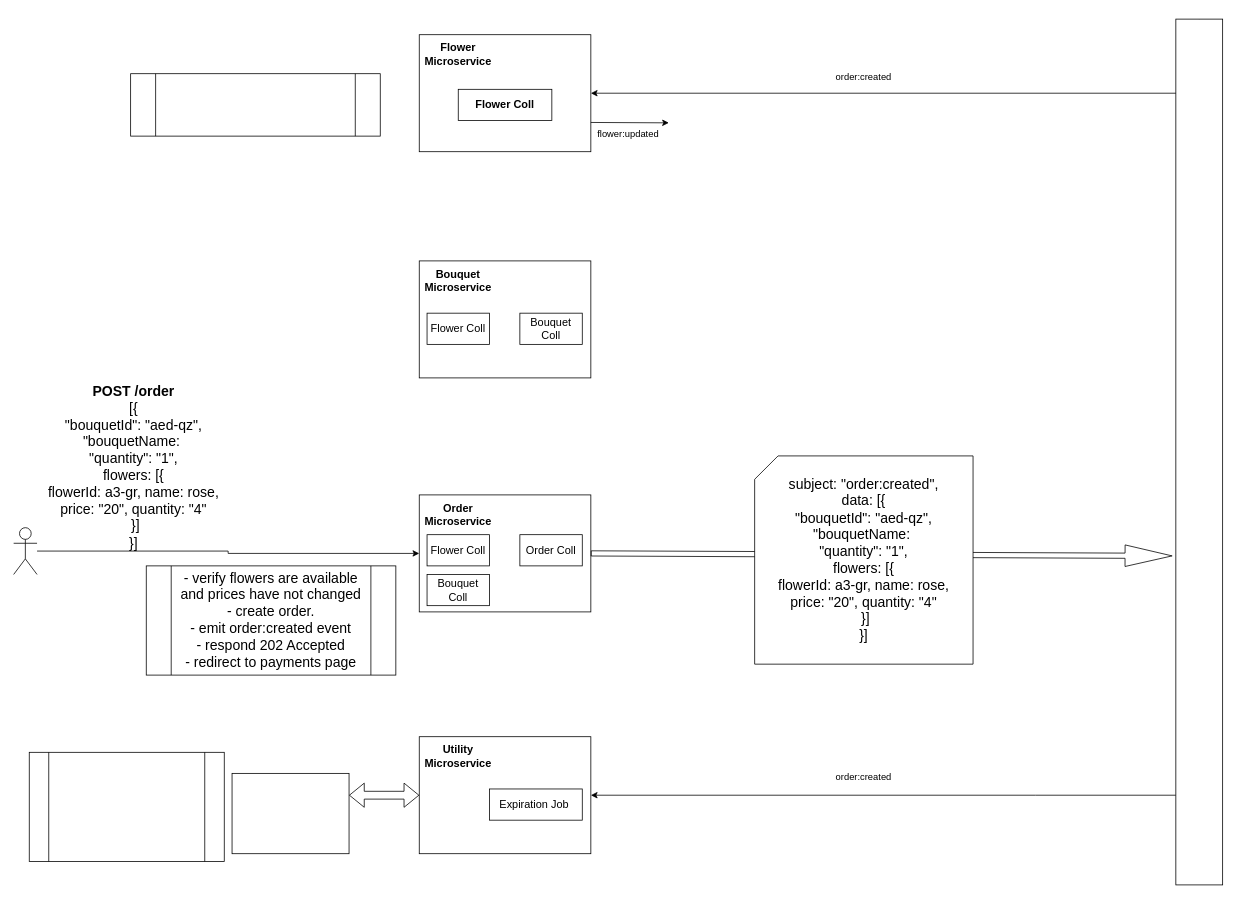
Image size: 1236x899. Some labels were removed from this diagram. The centre of each missing label's shape, as x and y in pixels:
- reduce the quantity of flowers - emit event of flowers:updated: the point at 255,104
- start a timer for FIXED time after which order:timeout event is created: the point at 126,807
Actor: the point at 25,550
E V E N T B U S: the point at 1199,451
Redis in-mem: the point at 290,813
